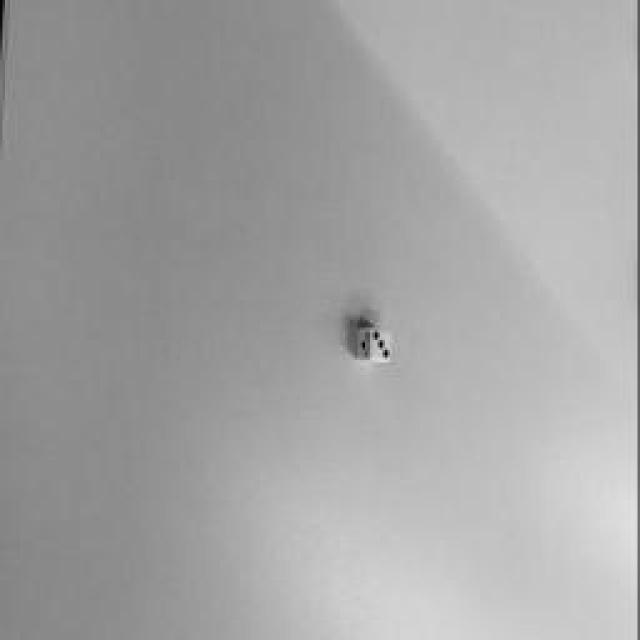dice_3: (371, 328, 391, 362)
